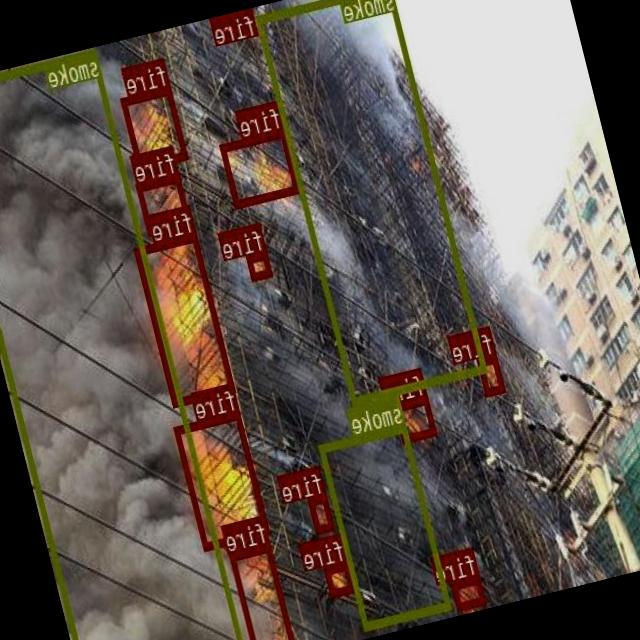fire: (134, 231, 237, 405), (174, 409, 271, 550), (229, 542, 296, 640), (220, 126, 301, 206), (122, 85, 188, 168), (137, 171, 192, 233), (394, 394, 438, 440), (478, 353, 507, 395), (452, 574, 486, 609), (324, 560, 356, 596), (308, 493, 334, 532), (222, 7, 258, 34), (247, 250, 272, 278)
smoke: (0, 47, 247, 640), (256, 0, 487, 403), (319, 421, 453, 628)
